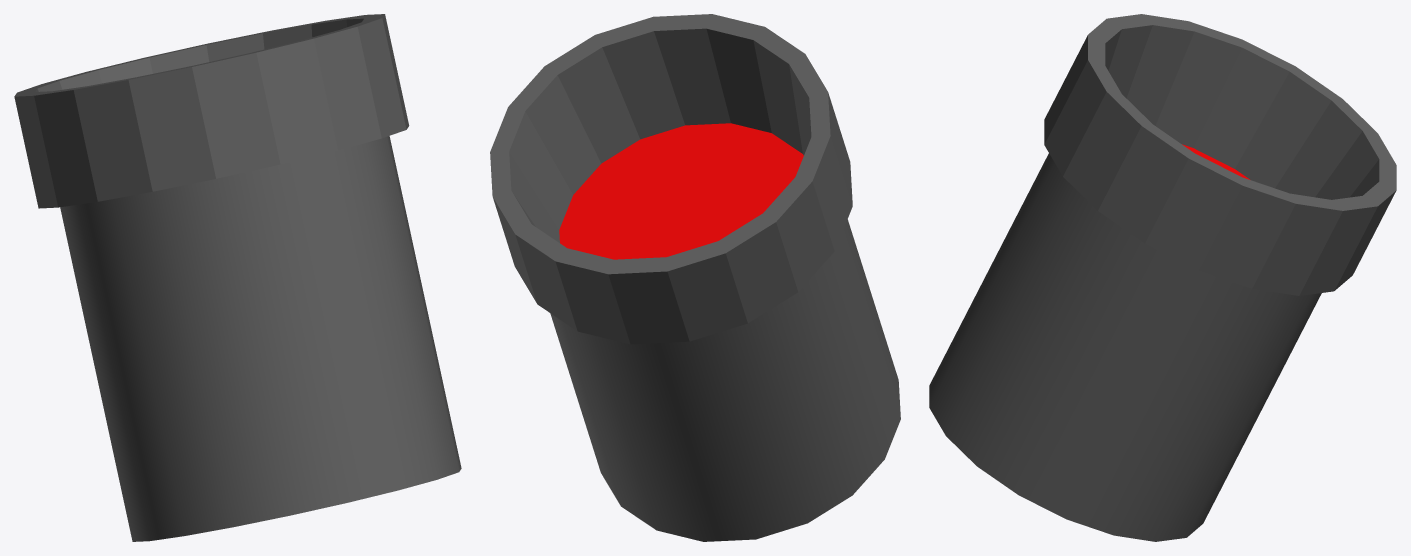
File: Telescope-Watch2.FBX
The picture shows the model from 3 angles, left to right: view 1: azimuth 30°, elevation 25°; view 2: azimuth 150°, elevation 25°; view 3: azimuth 270°, elevation 25°; orthographic projection. The views are drawn at different scales.
Visible parts, largest first — view 1: Cylinder002; view 2: Cylinder002; view 3: Cylinder002.
Part boxes in pixels (x1,y1,x2,y2): Cylinder002: [14, 14, 461, 541]; Cylinder002: [490, 14, 900, 541]; Cylinder002: [929, 14, 1396, 541].
Bounding box in the file's own units: 13.42 × 19.92 × 18.13.
